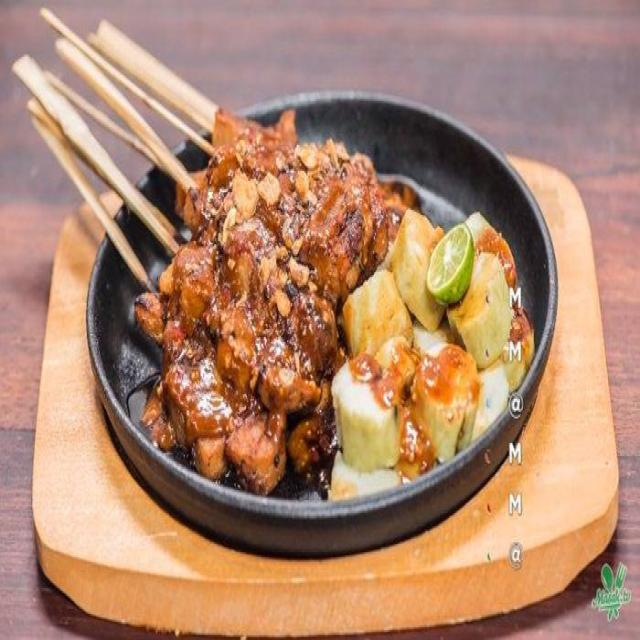Sate: (28, 0, 370, 479)
